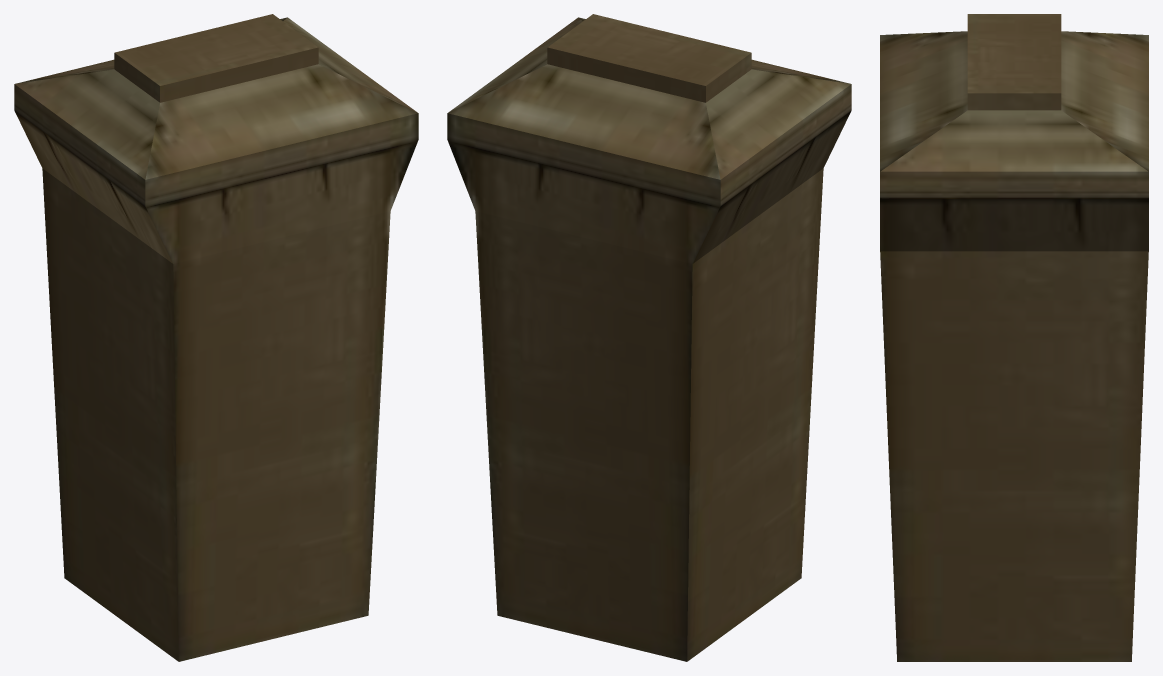
The model's file is brown_plastic_bin.FBX.
3 renders of one model, left to right at view 1: azimuth 30°, elevation 25°; view 2: azimuth 150°, elevation 25°; view 3: azimuth 270°, elevation 25°, orthographic. The views are drawn at different scales.
Parts seen in each view (by area): view 1: brown_plastic_bin; view 2: brown_plastic_bin; view 3: brown_plastic_bin.
Part boxes in pixels (x1=…): brown_plastic_bin: x1=14, y1=14, x2=418, y2=661; brown_plastic_bin: x1=447, y1=14, x2=851, y2=661; brown_plastic_bin: x1=880, y1=14, x2=1148, y2=661.
Size of the model in its own units: 53.41 by 102 by 44.36.
